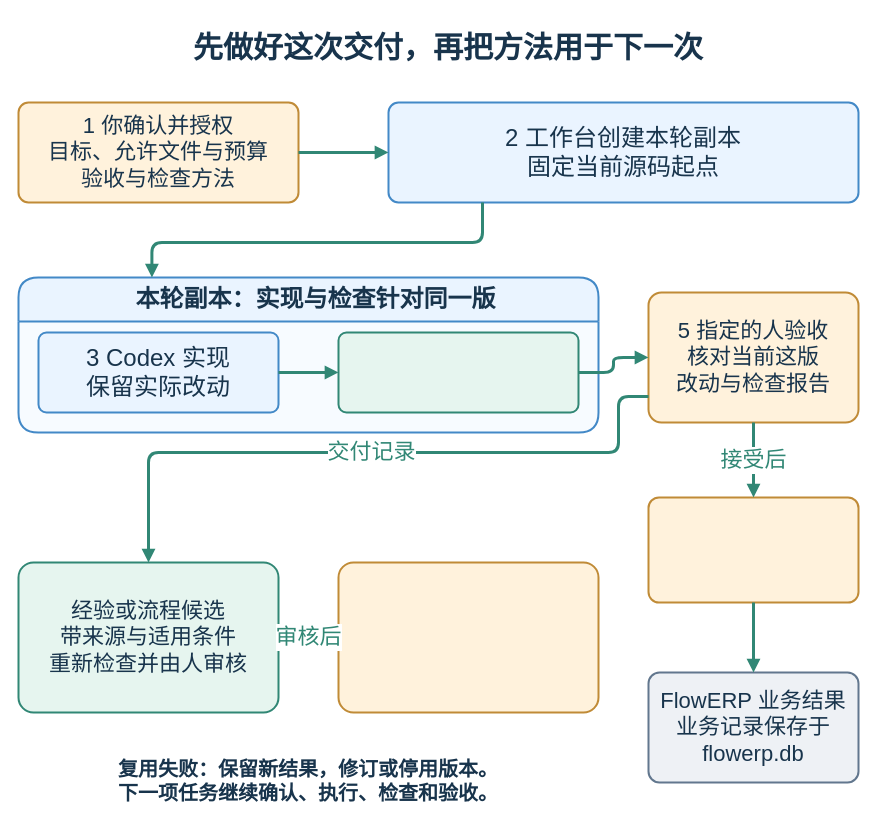
Some shapes in this 895 by 829 pixel diagram are drawn without their labels. The centre of each missing label's shape, as x and y in pixels:
4 独立检查（Eval） 保留本轮报告: the point at 458,372
6 另行确认写回 确认前保留原项目: the point at 753,549
另一项任务选择采用 记录版本与适用范围 重新执行、检查和验收: the point at 468,637
